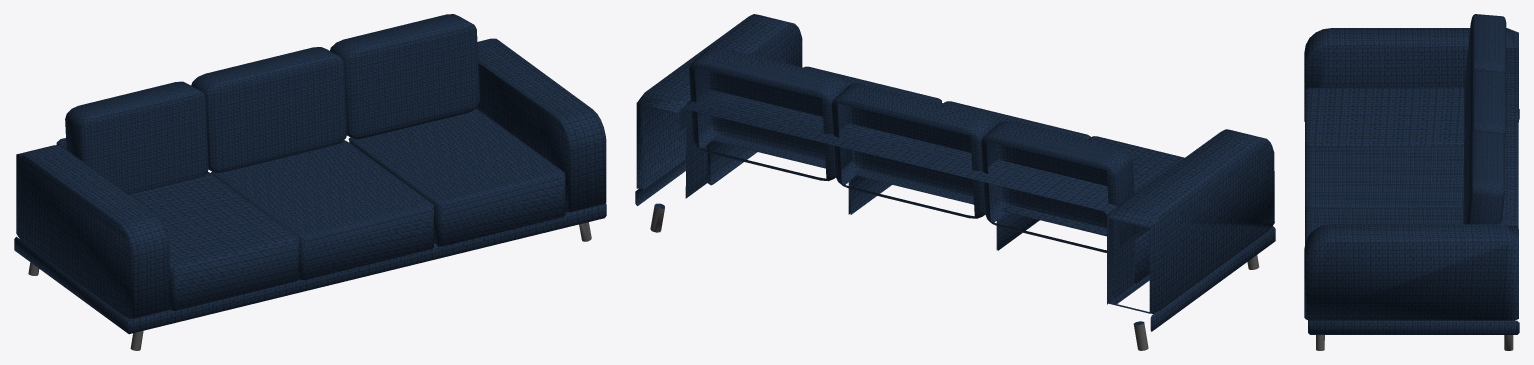
File: couch2.fbx
The picture shows the model from 3 angles, left to right: view 1: azimuth 30°, elevation 25°; view 2: azimuth 150°, elevation 25°; view 3: azimuth 270°, elevation 25°; orthographic projection. The views are drawn at different scales.
Parts seen in each view (by area): view 1: Couch; view 2: Couch; view 3: Couch.
Part boxes in pixels (x1,y1,x2,y2): Couch: (14, 14, 606, 350); Couch: (635, 14, 1275, 350); Couch: (1304, 14, 1519, 350).
Size of the model in its own units: 252 by 83.07 by 106.
Materials: 2 (1 with a texture image).
